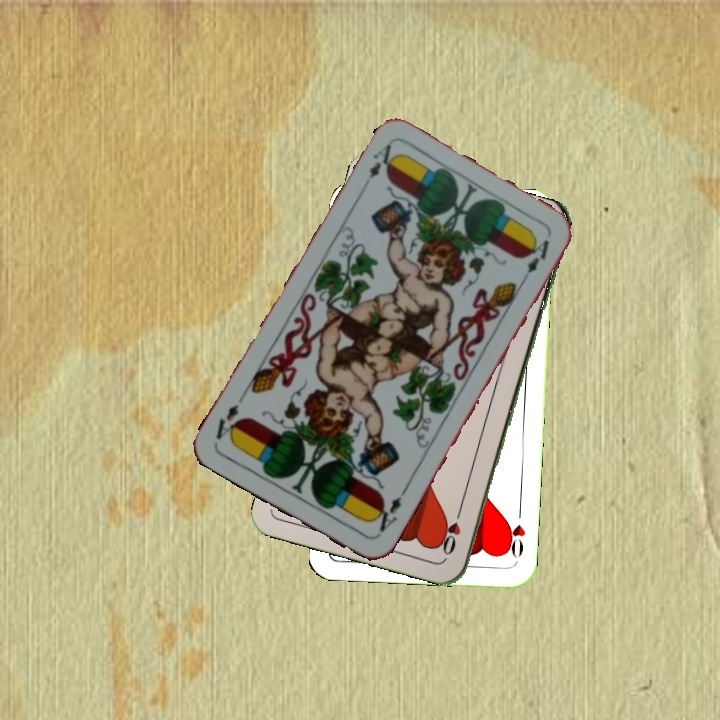EA: (368, 485, 409, 539), (364, 140, 400, 181)
HO: (502, 504, 528, 563), (440, 501, 465, 558)
